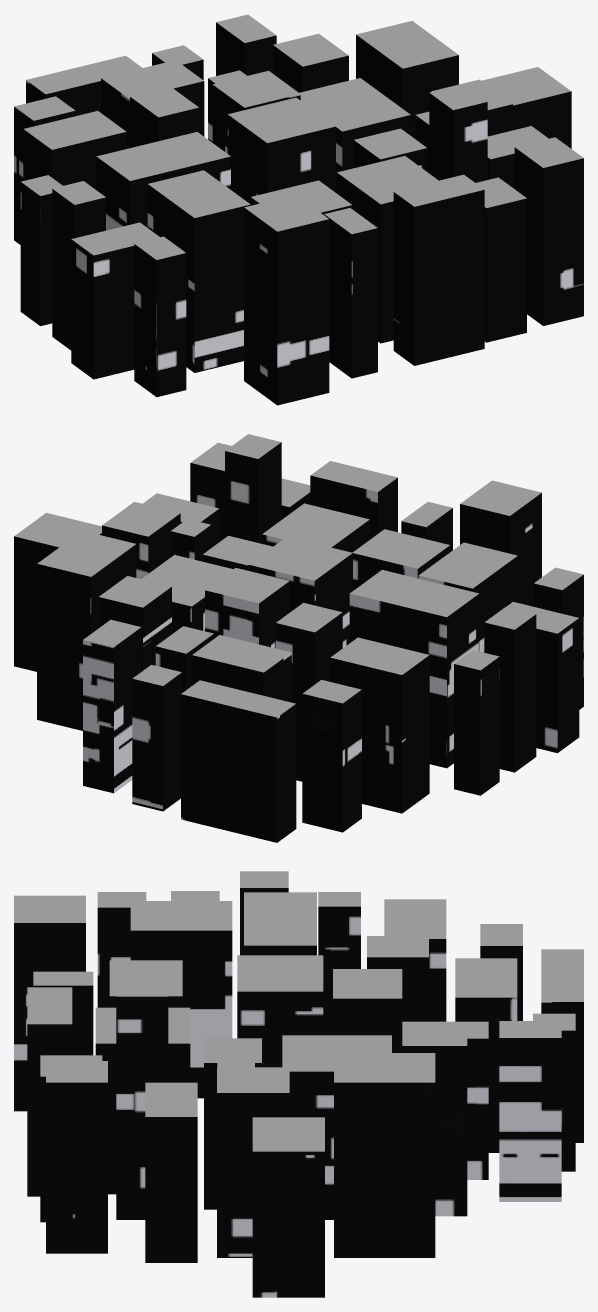
The model's file is Downtown01.fbx.
The picture shows the model from 3 angles, top to bottom: view 1: azimuth 30°, elevation 25°; view 2: azimuth 150°, elevation 25°; view 3: azimuth 270°, elevation 25°; orthographic projection. The views are drawn at different scales.
Parts seen in each view (by area): view 1: Downtown01; view 2: Downtown01; view 3: Downtown01.
Boxes of the visible parts, x1=… form: Downtown01: x1=14, y1=14, x2=583, y2=405; Downtown01: x1=14, y1=434, x2=583, y2=842; Downtown01: x1=14, y1=871, x2=583, y2=1297.
Size of the model in its own units: 1.61 by 0.6156 by 1.42.
